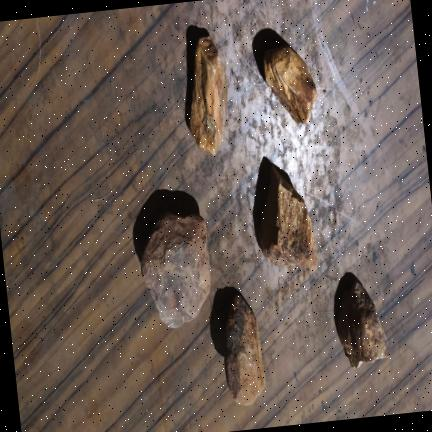Rocks: (141, 211, 210, 326), (260, 165, 317, 270), (225, 294, 265, 404), (190, 36, 227, 154), (338, 280, 388, 366), (264, 46, 316, 122)
